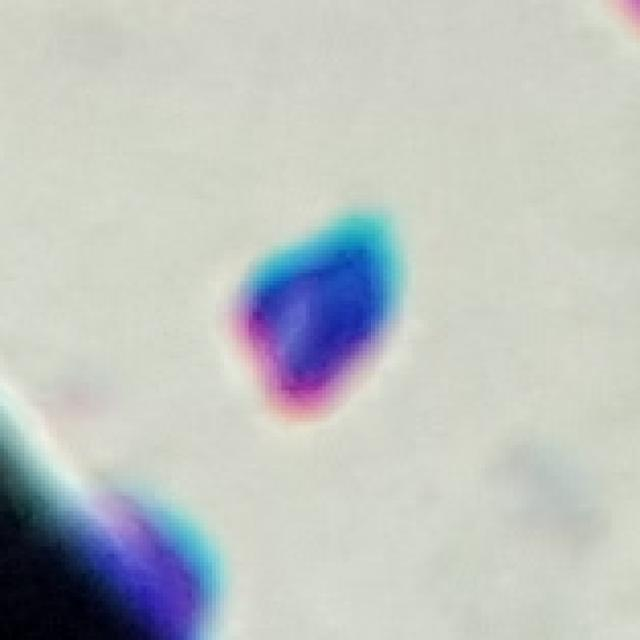non-sperm: (218, 202, 414, 423)
